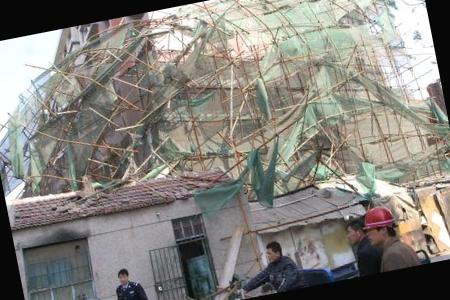no_helmet: (336, 214, 366, 250), (260, 238, 285, 267), (112, 264, 132, 288)
